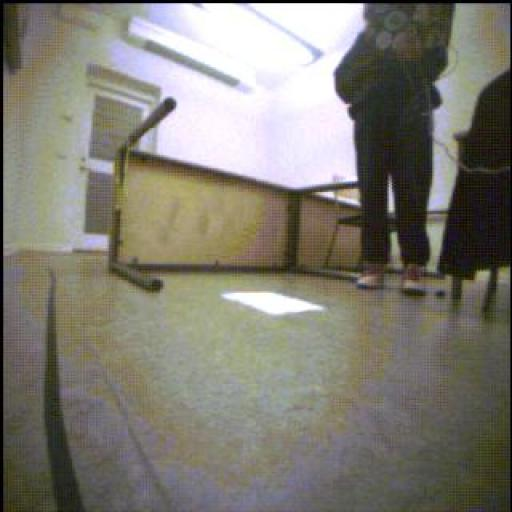Pad: (224, 292, 325, 316)
